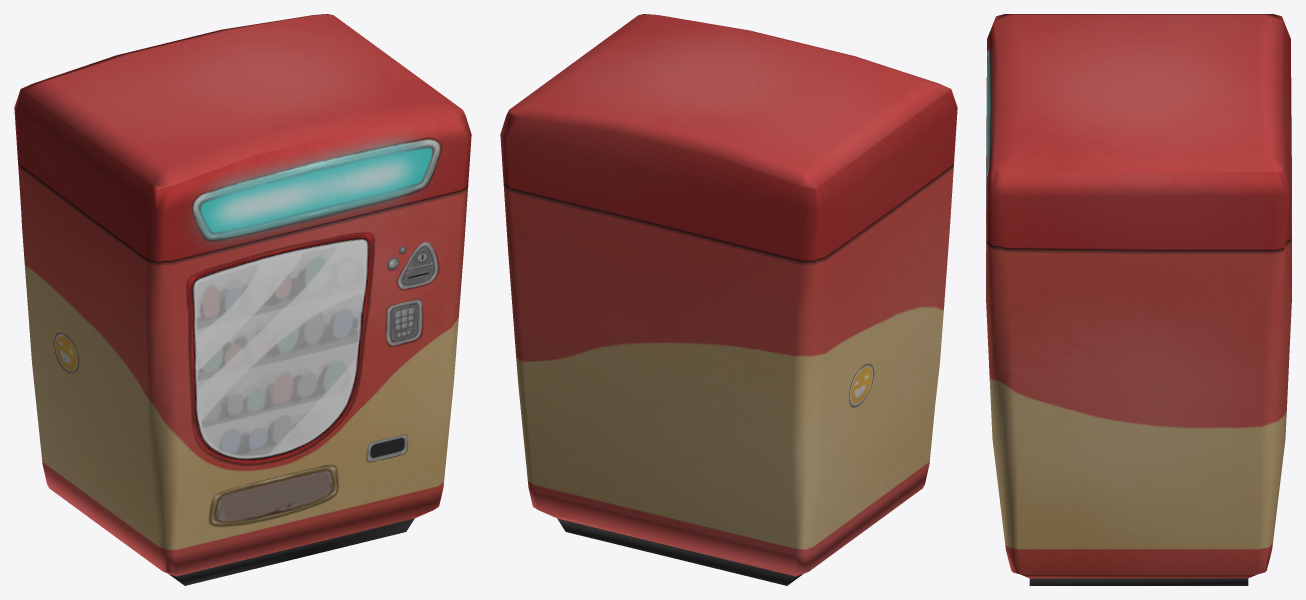
Rendered from distributeur.fbx.
3 views of the same model, side by side, from view 1: azimuth 30°, elevation 25°; view 2: azimuth 150°, elevation 25°; view 3: azimuth 270°, elevation 25° (orthographic). The views are drawn at different scales.
Parts seen in each view (by area): view 1: distributeur; view 2: distributeur; view 3: distributeur.
Boxes of the visible parts, x1,y1,x2,y2 form: distributeur: (14,14,471,585); distributeur: (500,14,957,585); distributeur: (986,14,1291,585).
Size of the model in its own units: 1.08 by 1.4 by 0.8514.
